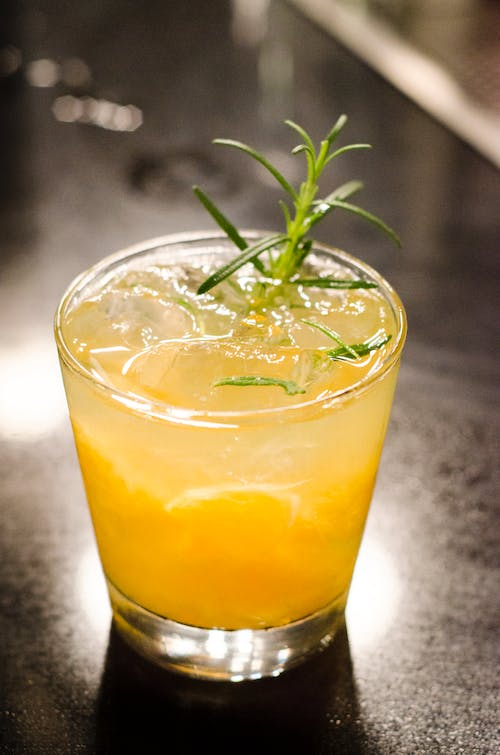alcohol: (51, 230, 410, 682)
